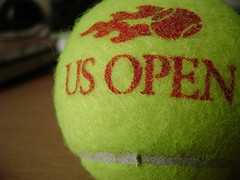tennis ball: (51, 1, 240, 179)
